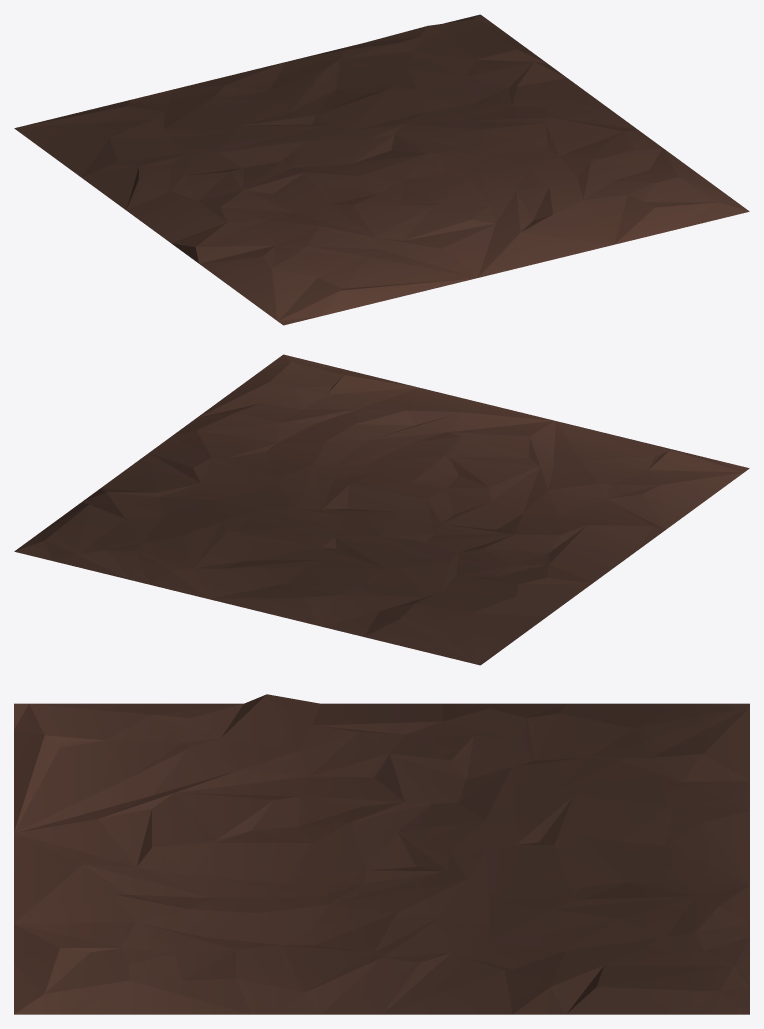
Rendered from FarmingPlot_Mdl.fbx.
3 renders of one model, top to bottom at view 1: azimuth 30°, elevation 25°; view 2: azimuth 150°, elevation 25°; view 3: azimuth 270°, elevation 25°, orthographic. The views are drawn at different scales.
Parts seen in each view (by area): view 1: FarmingPlot_Mdl; view 2: FarmingPlot_Mdl; view 3: FarmingPlot_Mdl.
Boxes of the visible parts, x1,y1,x2,y2 form: FarmingPlot_Mdl: (14,14,749,325); FarmingPlot_Mdl: (14,354,749,665); FarmingPlot_Mdl: (14,694,749,1014).
Bounding box in the file's own units: 24.06 × 0.5308 × 24.06.
